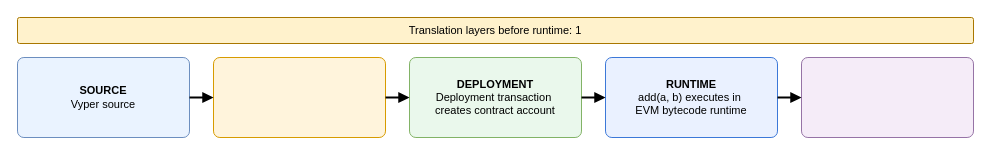
This 991x155 diagram has some shape labels left out. Here are the shapes that lost their labels. From the top down, the box of each, then its label:
(212, 56, 386, 138): TRANSLATION vyper compiles source to EVM bytecode + ABI
(800, 56, 974, 138): STATE / OUTPUT Storage write and read_result() via call execution
